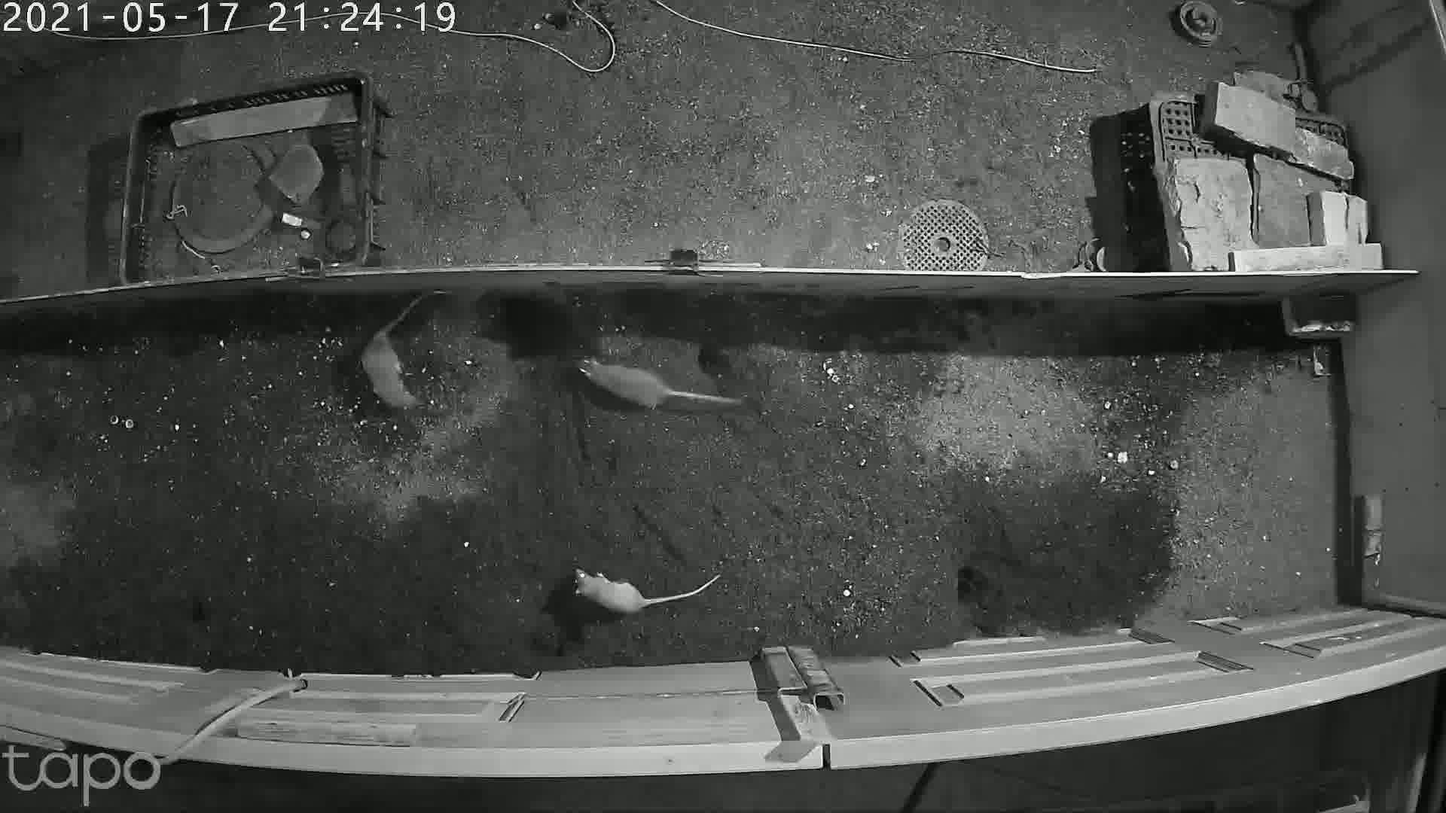rat: (350, 285, 456, 437), (577, 345, 754, 430), (550, 557, 743, 623)
